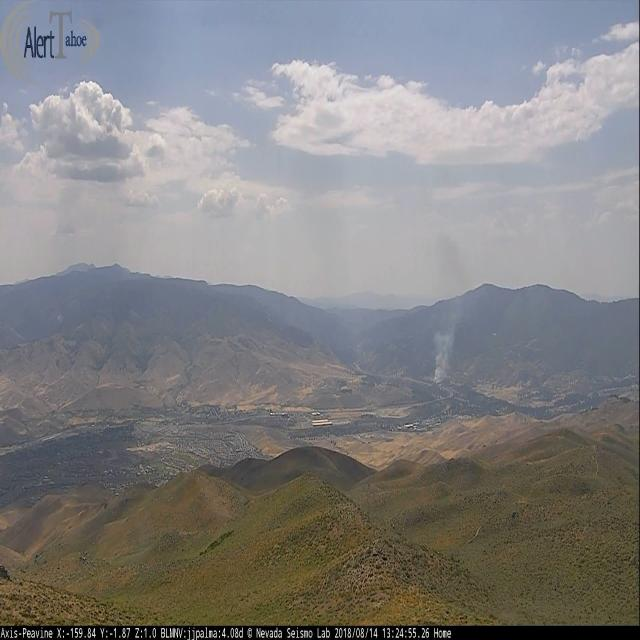smoke: (430, 308, 459, 386)
